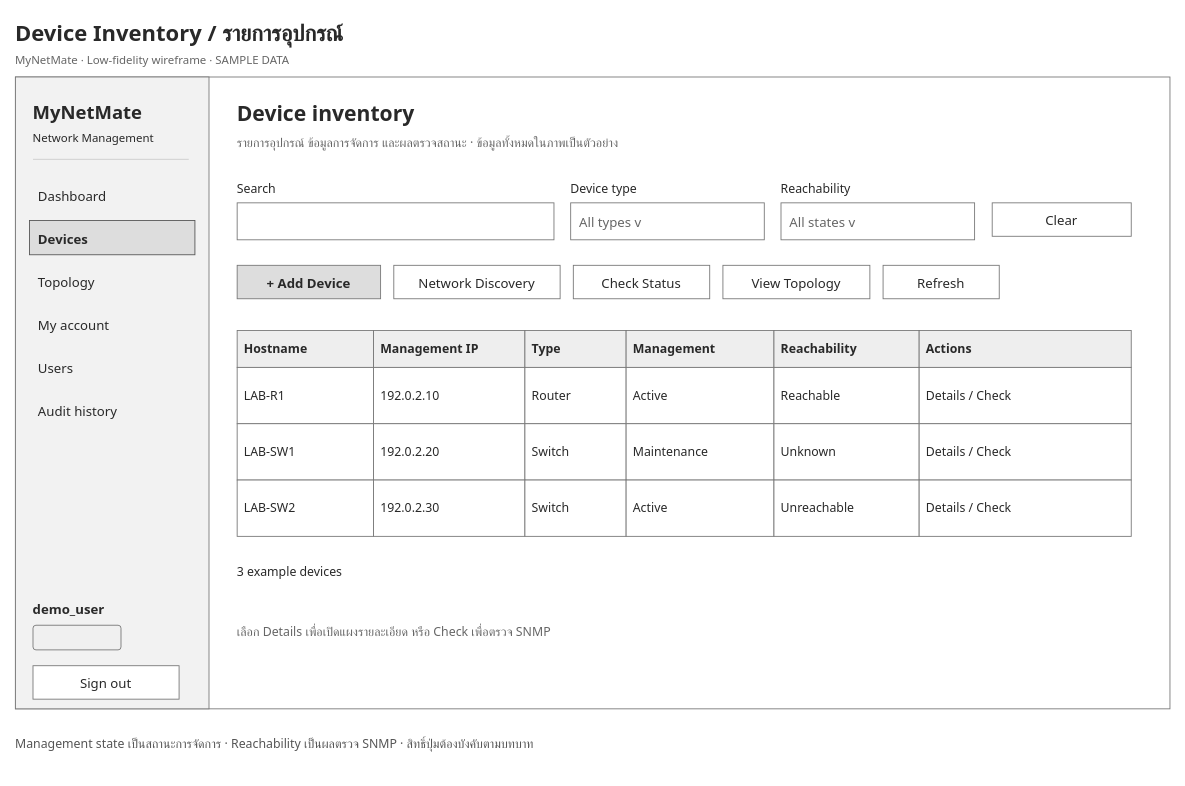
The diagram is 1185 pixels wide and 786 high, and some of its shapes have lost their labels. Here are the shapes that lost their labels. From the top down, the box of each, then its label:
(236, 202, 554, 240): Hostname / Management IP
(32, 624, 121, 650): Admin
